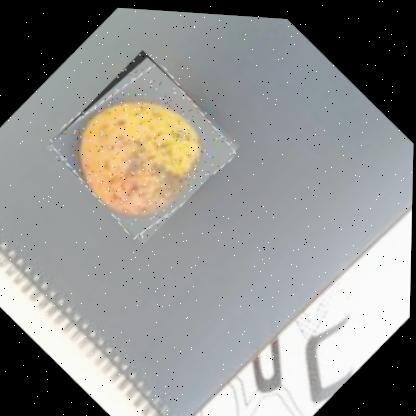mango_rotten: (43, 39, 242, 246)
